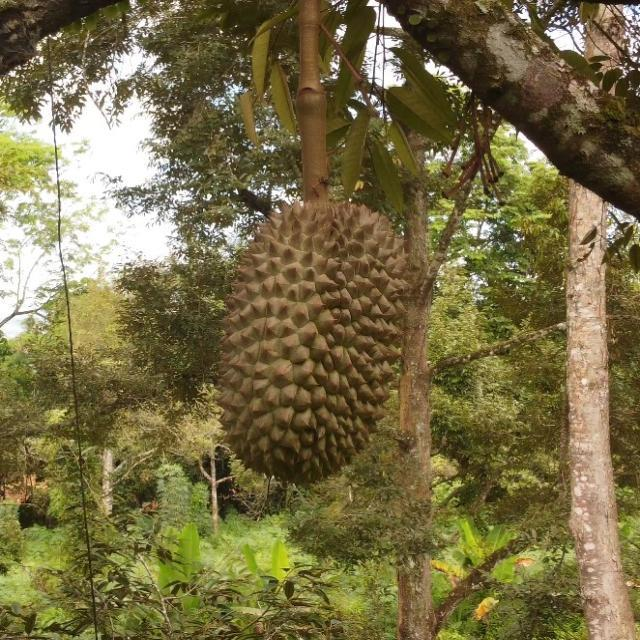mature: (215, 201, 411, 484)
